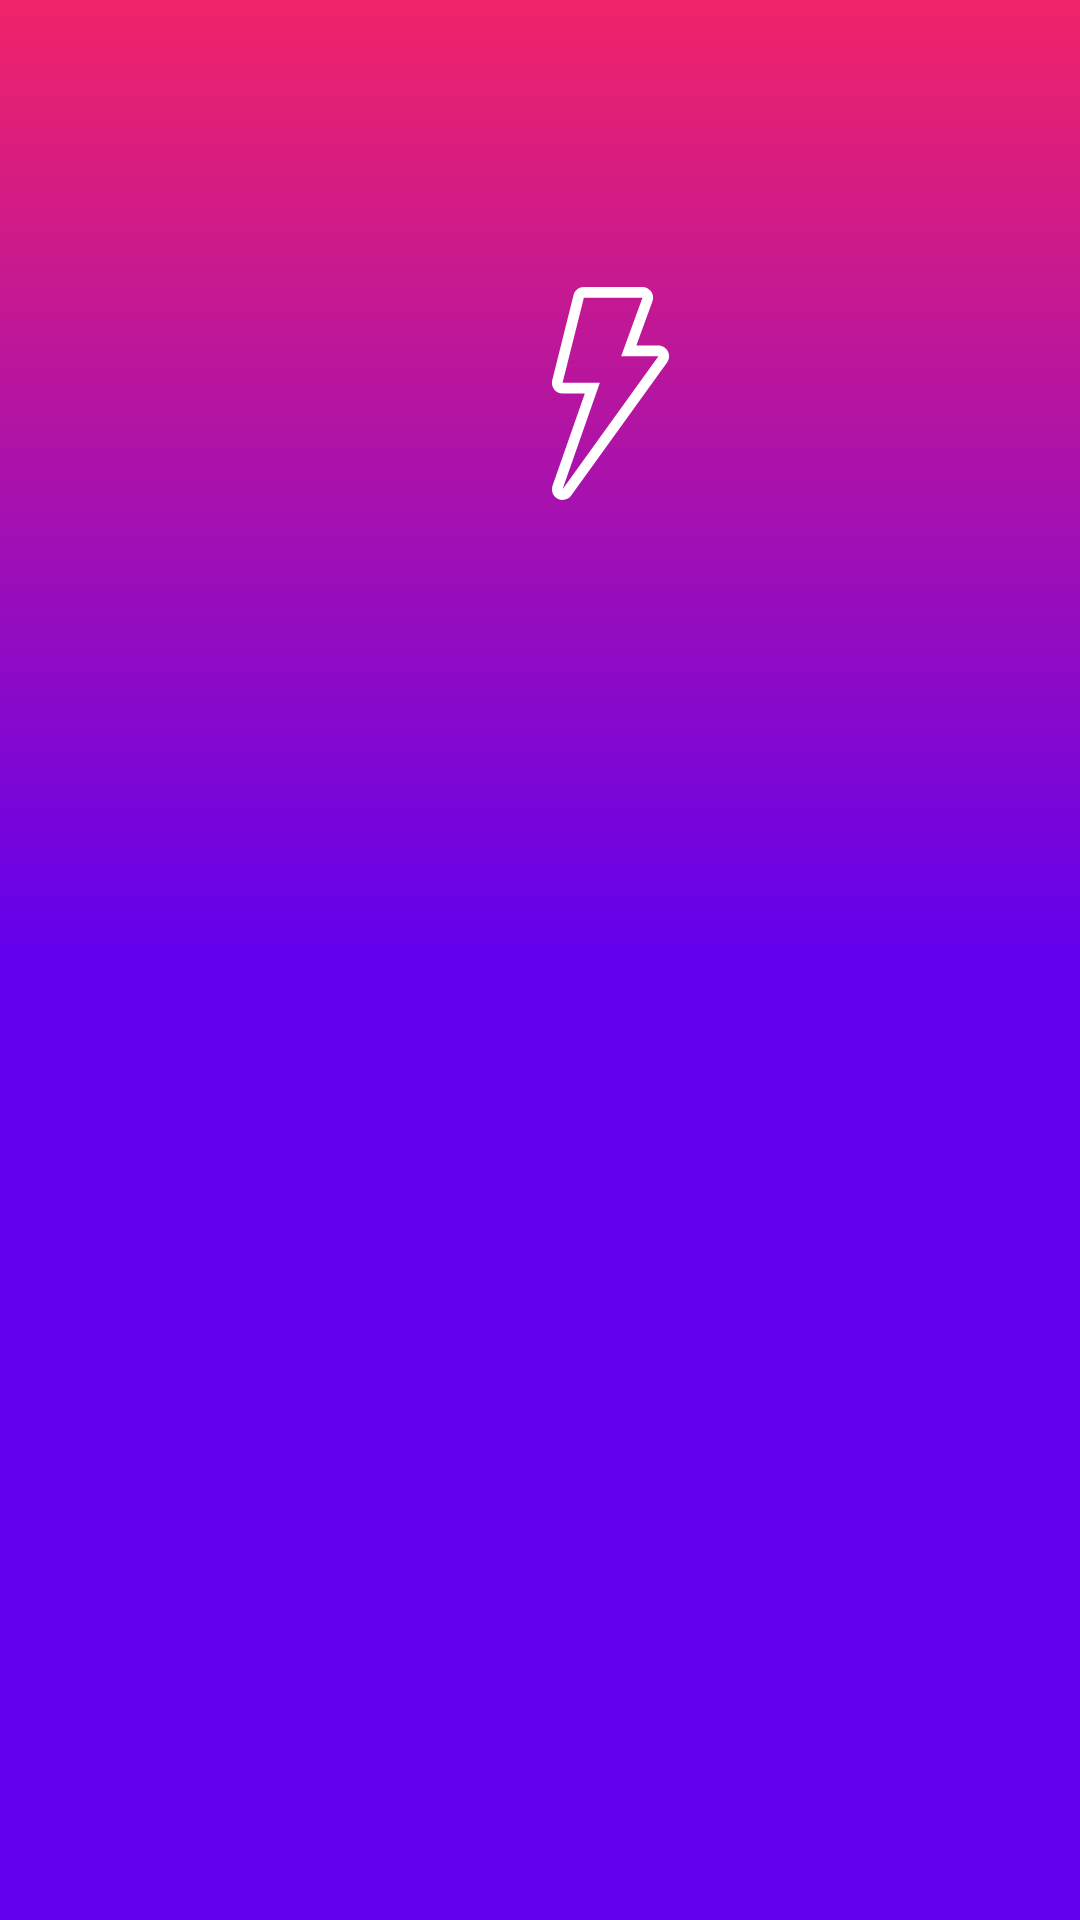

Where to tap for icons on this 1080w x 1920h app screen, as [x,y]:
thunder: [610,393]
